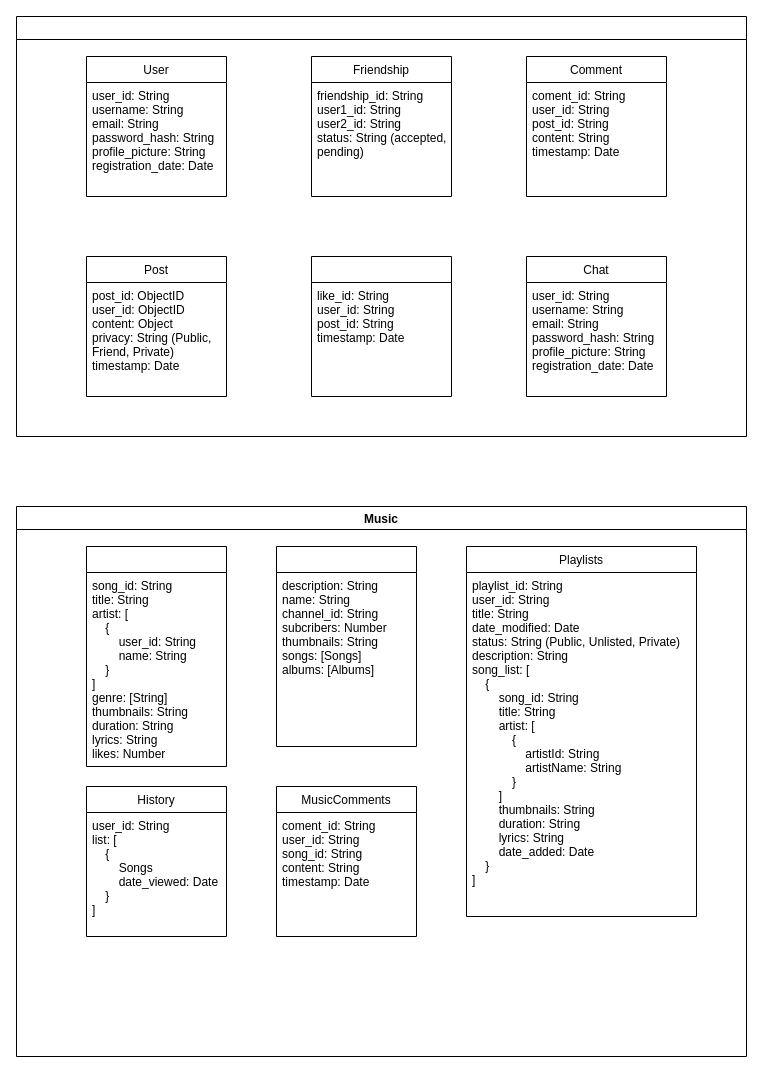
The diagram is 763 pixels wide and 1073 high, and some of its shapes have lost their labels. Each missing label, with the box of its shape:
Artists: (276, 546, 416, 746)
LikePost: (310, 256, 452, 396)
Social: (16, 16, 746, 436)
Songs: (86, 546, 226, 766)
